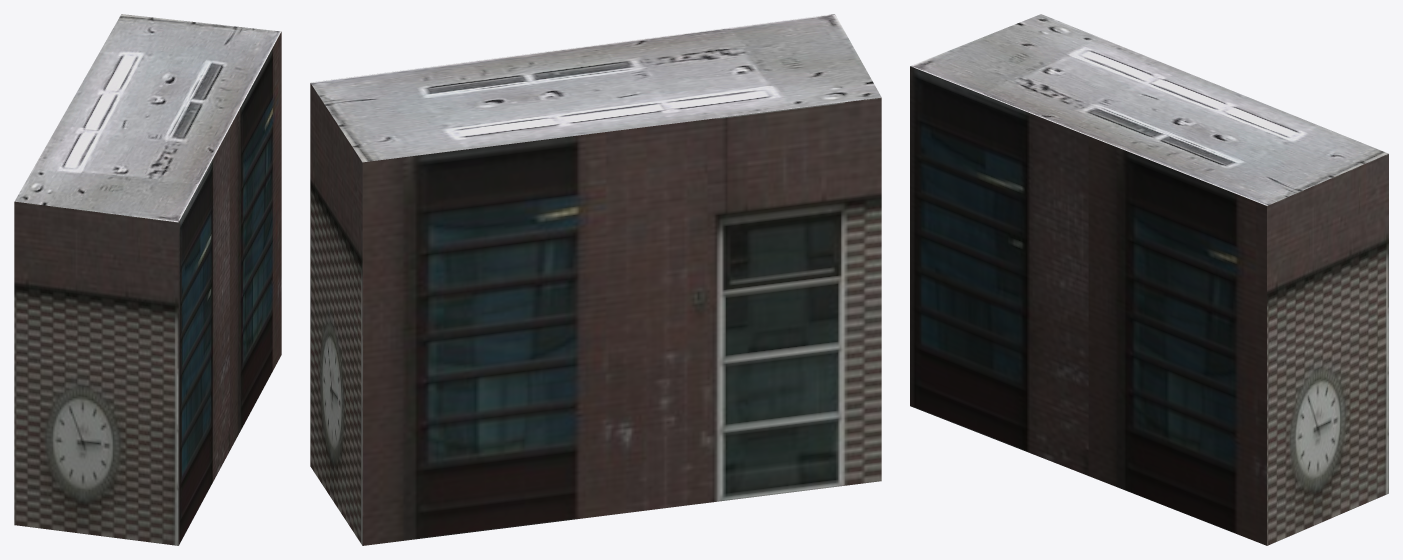
File: EduTex__18.fbx
3 renders of one model, left to right at view 1: azimuth 30°, elevation 25°; view 2: azimuth 150°, elevation 25°; view 3: azimuth 270°, elevation 25°, orthographic. The views are drawn at different scales.
Visible parts, largest first — view 1: CityEngineMaterial_18_m, CityEngineMaterial_10_m; view 2: CityEngineMaterial_18_m, CityEngineMaterial_10_m; view 3: CityEngineMaterial_18_m, CityEngineMaterial_10_m.
Part boxes in pixels (x1,y1,x2,y2): CityEngineMaterial_18_m: [14, 32, 281, 545]; CityEngineMaterial_10_m: [14, 14, 281, 222]; CityEngineMaterial_18_m: [310, 83, 881, 545]; CityEngineMaterial_10_m: [310, 14, 881, 162]; CityEngineMaterial_18_m: [910, 66, 1388, 545]; CityEngineMaterial_10_m: [910, 14, 1388, 205].
Bounding box in the file's own units: 7.27 × 6 × 7.66.
2 materials, 2 textured.
